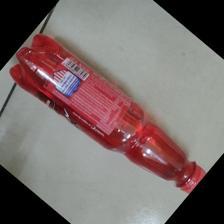Sting: (9, 32, 212, 194)
